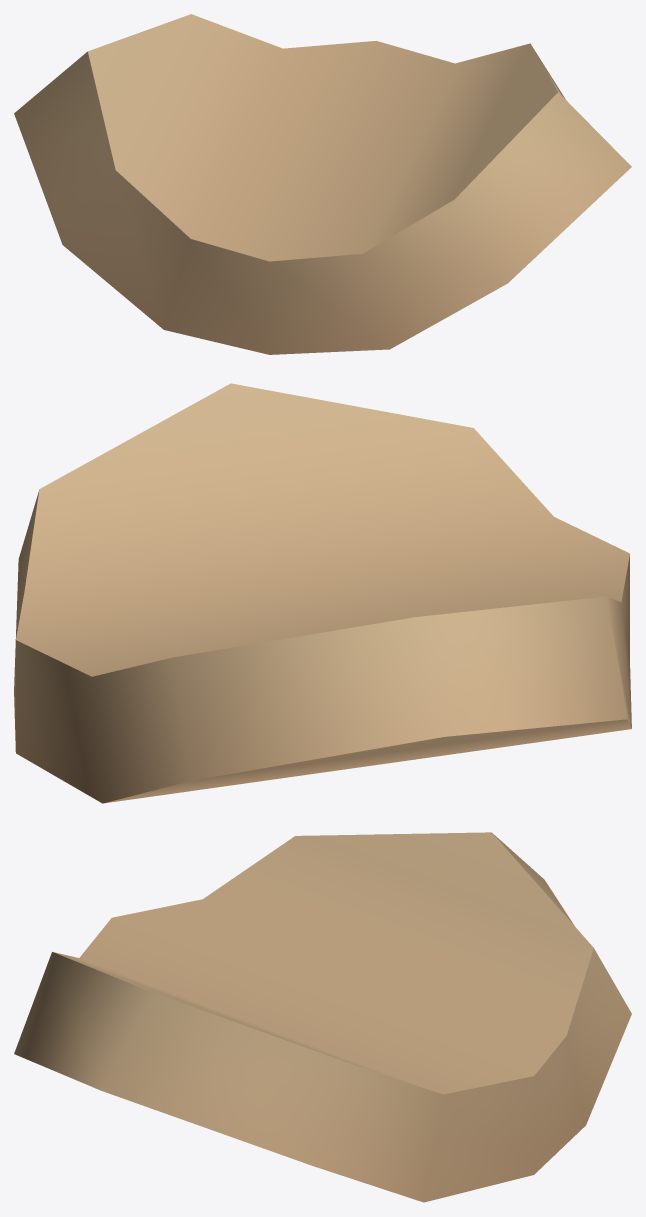
File: (%no-merge).glb
The picture shows the model from 3 angles, top to bottom: view 1: azimuth 30°, elevation 25°; view 2: azimuth 150°, elevation 25°; view 3: azimuth 270°, elevation 25°; orthographic projection. The views are drawn at different scales.
Parts seen in each view (by area): view 1: (%no-merge); view 2: (%no-merge); view 3: (%no-merge).
Part boxes in pixels (x1,y1,x2,y2): (%no-merge): [14, 14, 631, 354]; (%no-merge): [14, 383, 631, 803]; (%no-merge): [14, 832, 631, 1202].
Bounding box in the file's own units: 0.0598 × 0.0193 × 0.0591.
